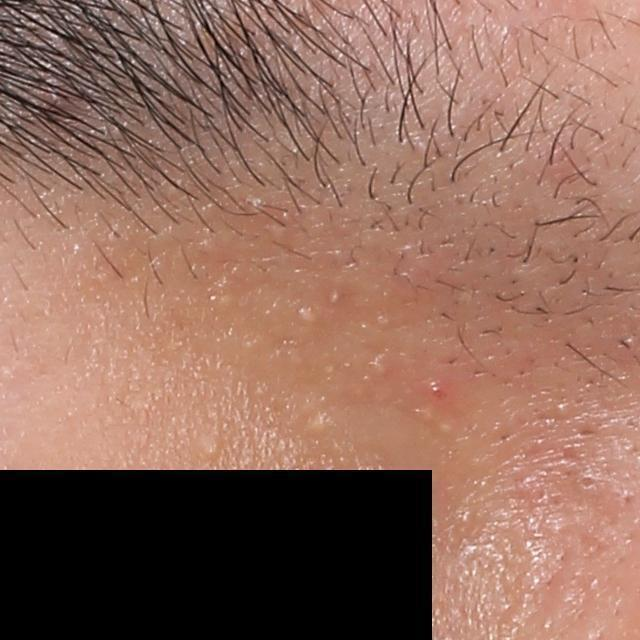comedo: (575, 467, 606, 501)
other: (194, 435, 229, 456)
